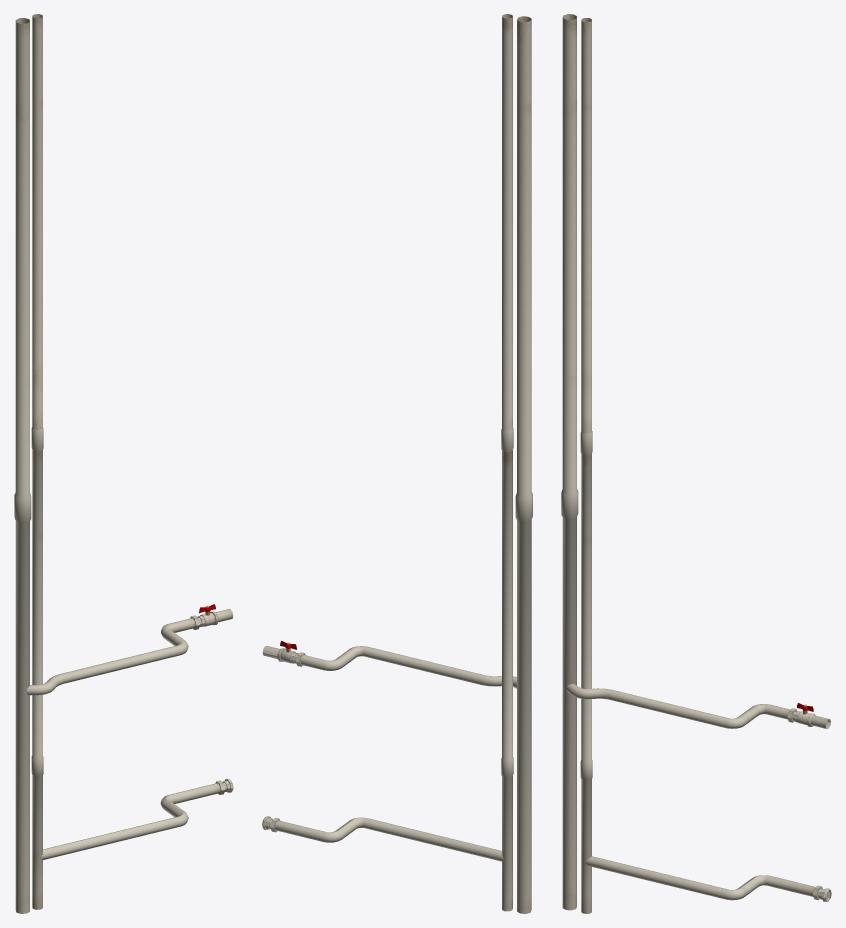
File: SM_Radiator01BPipes.FBX
3 renders of one model, left to right at view 1: azimuth 30°, elevation 25°; view 2: azimuth 150°, elevation 25°; view 3: azimuth 330°, elevation 25°, orthographic.
Parts seen in each view (by area): view 1: SM_Radiator01BPipes_LOD0; view 2: SM_Radiator01BPipes_LOD0; view 3: SM_Radiator01BPipes_LOD0.
Part boxes in pixels (x1,y1,x2,y2): SM_Radiator01BPipes_LOD0: (14,14,233,913); SM_Radiator01BPipes_LOD0: (262,14,532,913); SM_Radiator01BPipes_LOD0: (561,14,831,913).
Size of the model in its own units: 79.65 by 21.22 by 282.
